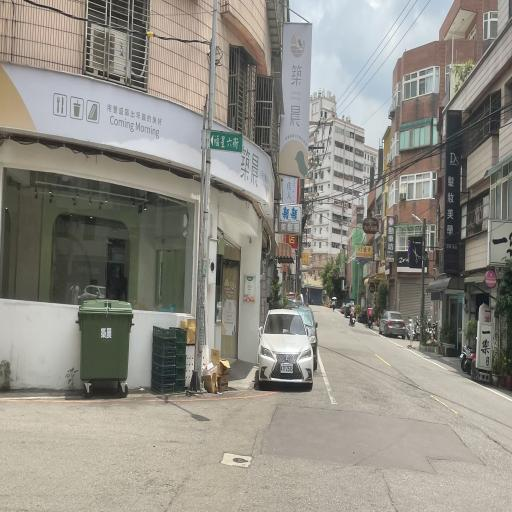MIU: (243, 360, 281, 410)
car: (254, 301, 319, 393)
redline: (150, 383, 264, 410)
